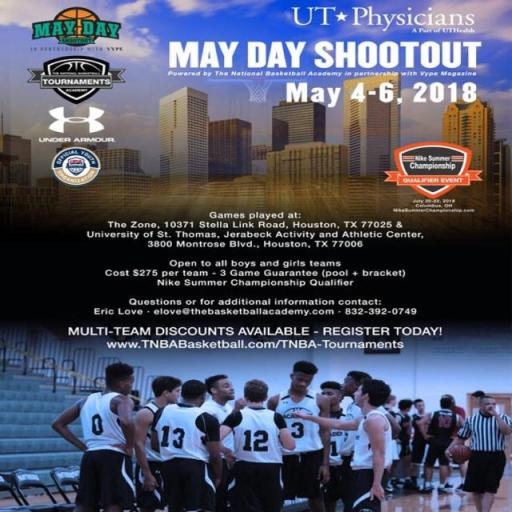Under Armour: (40, 106, 116, 138)
